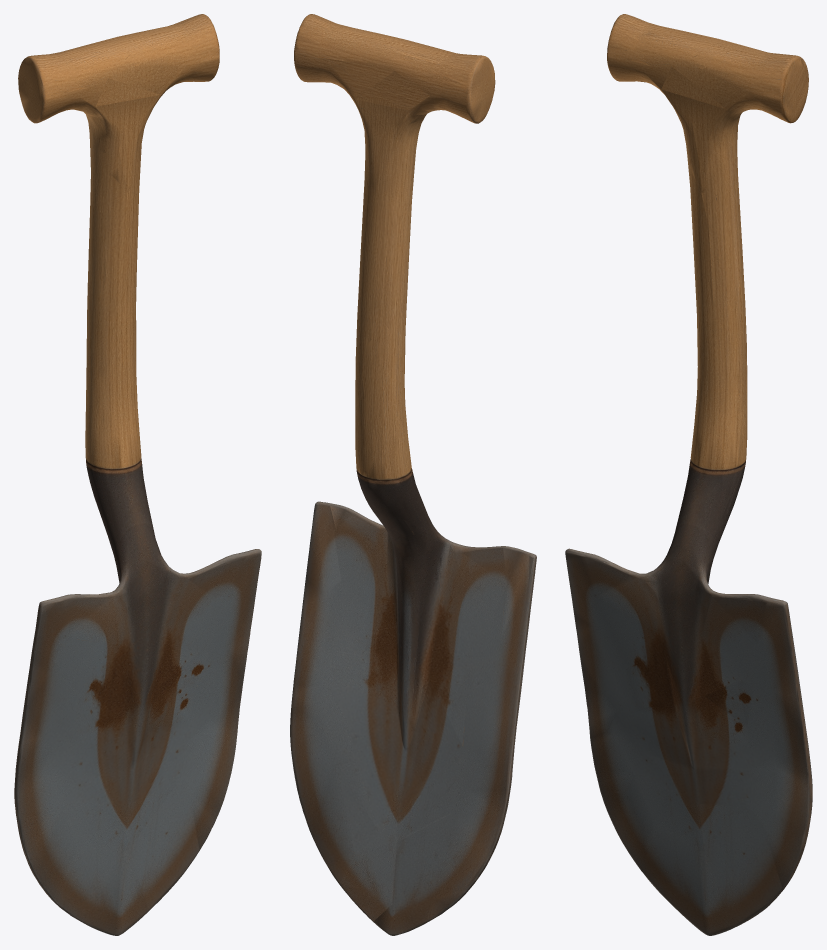
File: Spade.fbx
3 renders of one model, left to right at view 1: azimuth 30°, elevation 25°; view 2: azimuth 150°, elevation 25°; view 3: azimuth 330°, elevation 25°, orthographic.
Visible parts, largest first — view 1: Mesh_0; view 2: Mesh_0; view 3: Mesh_0.
Boxes of the visible parts, x1,y1,x2,y2 form: Mesh_0: (14,14,261,935); Mesh_0: (290,14,536,935); Mesh_0: (565,14,812,935).
Bounding box in the file's own units: 48.96 × 190 × 21.98.
1 material, 1 textured.
